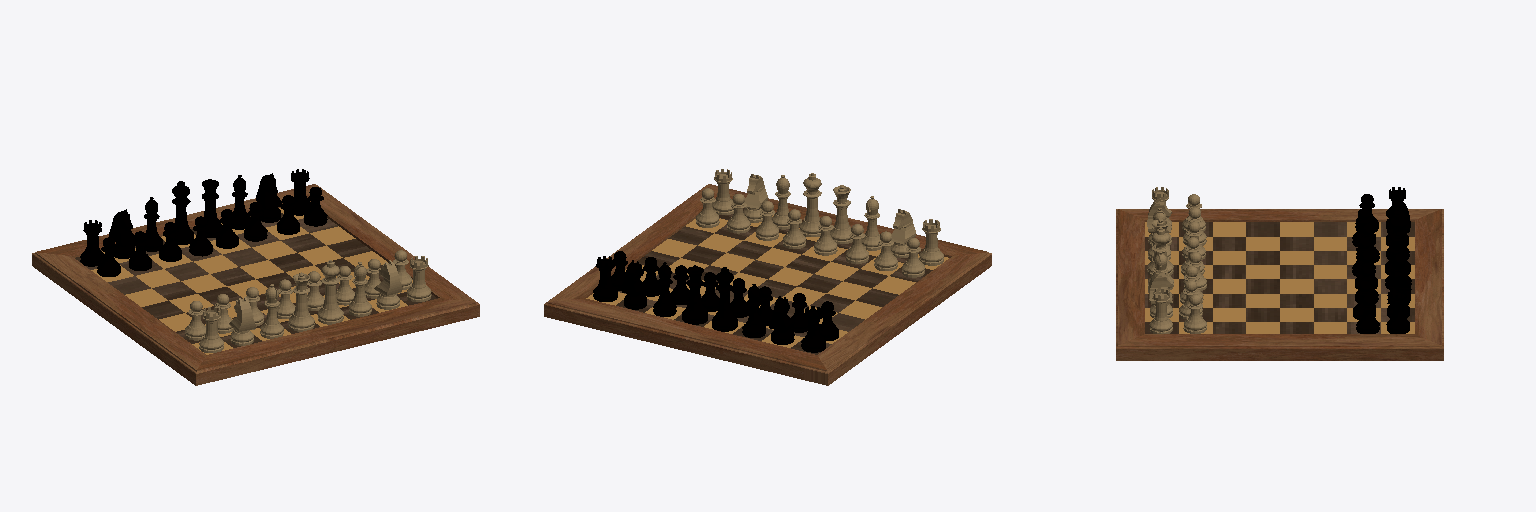
3 views of the same model, side by side, from view 1: azimuth 30°, elevation 25°; view 2: azimuth 150°, elevation 25°; view 3: azimuth 270°, elevation 25° (orthographic).
Visible parts, largest first — view 1: Chess_Board.001; view 2: Chess_Board.001; view 3: Chess_Board.001.
Boxes of the visible parts, x1=… form: Chess_Board.001: x1=32, y1=169, x2=479, y2=385; Chess_Board.001: x1=544, y1=169, x2=991, y2=385; Chess_Board.001: x1=1116, y1=187, x2=1443, y2=360.
Size of the model in its own units: 4.91 by 1.16 by 4.91.
Materials: 5 (2 with a texture image).